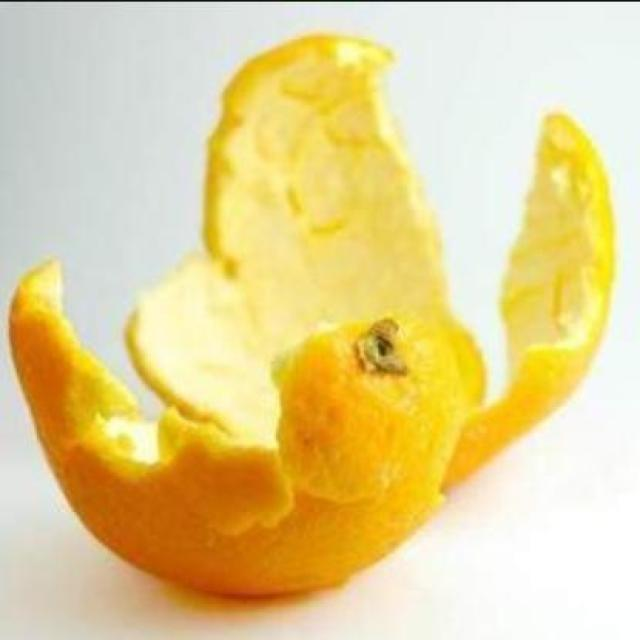organic: (8, 33, 620, 602)
